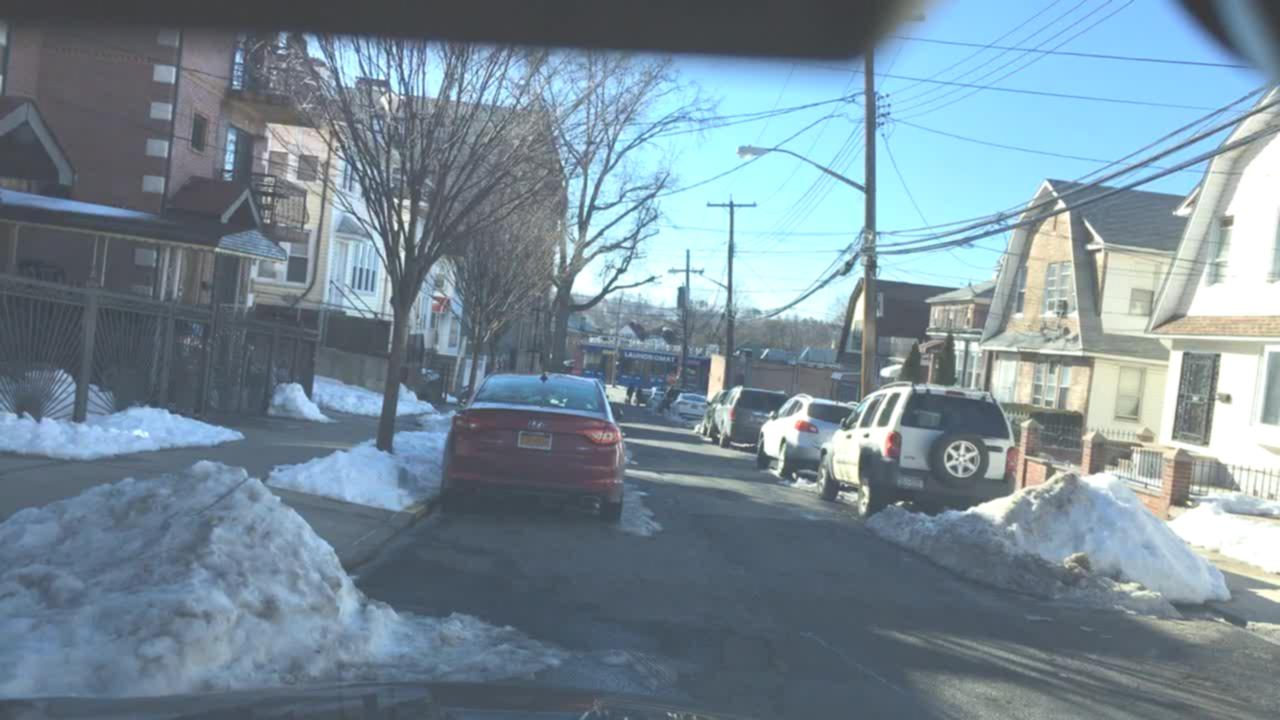Hyundai: (524, 415, 547, 432)
